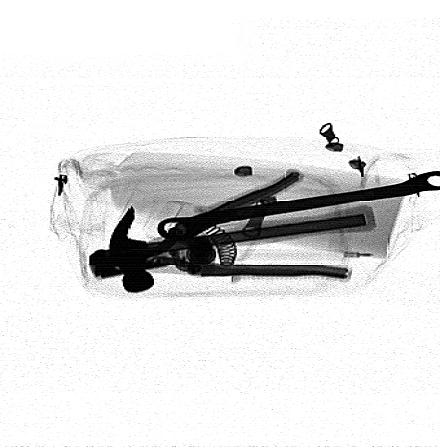Hammer: (109, 200, 383, 294)
Pliers: (87, 168, 352, 281)
Wrench: (156, 169, 439, 240)
